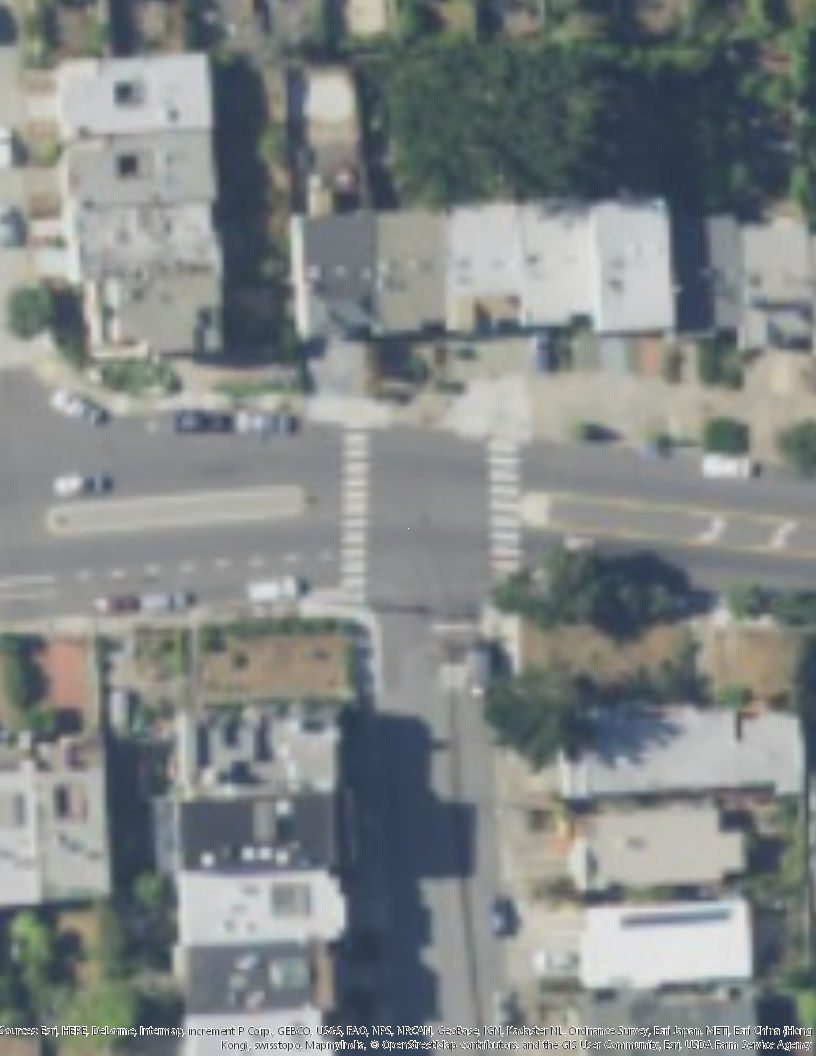zebracross: (486, 438, 522, 578), (339, 431, 369, 588)
